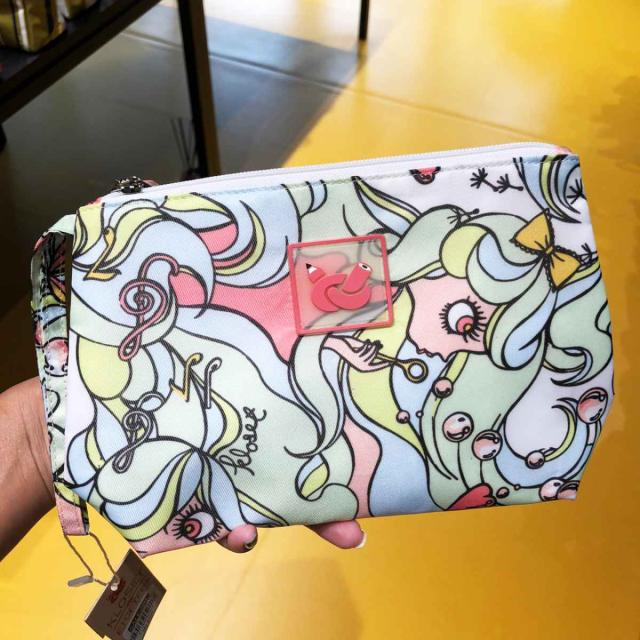handbag: (1, 133, 640, 585)
